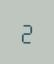two: (19, 20, 33, 43)
